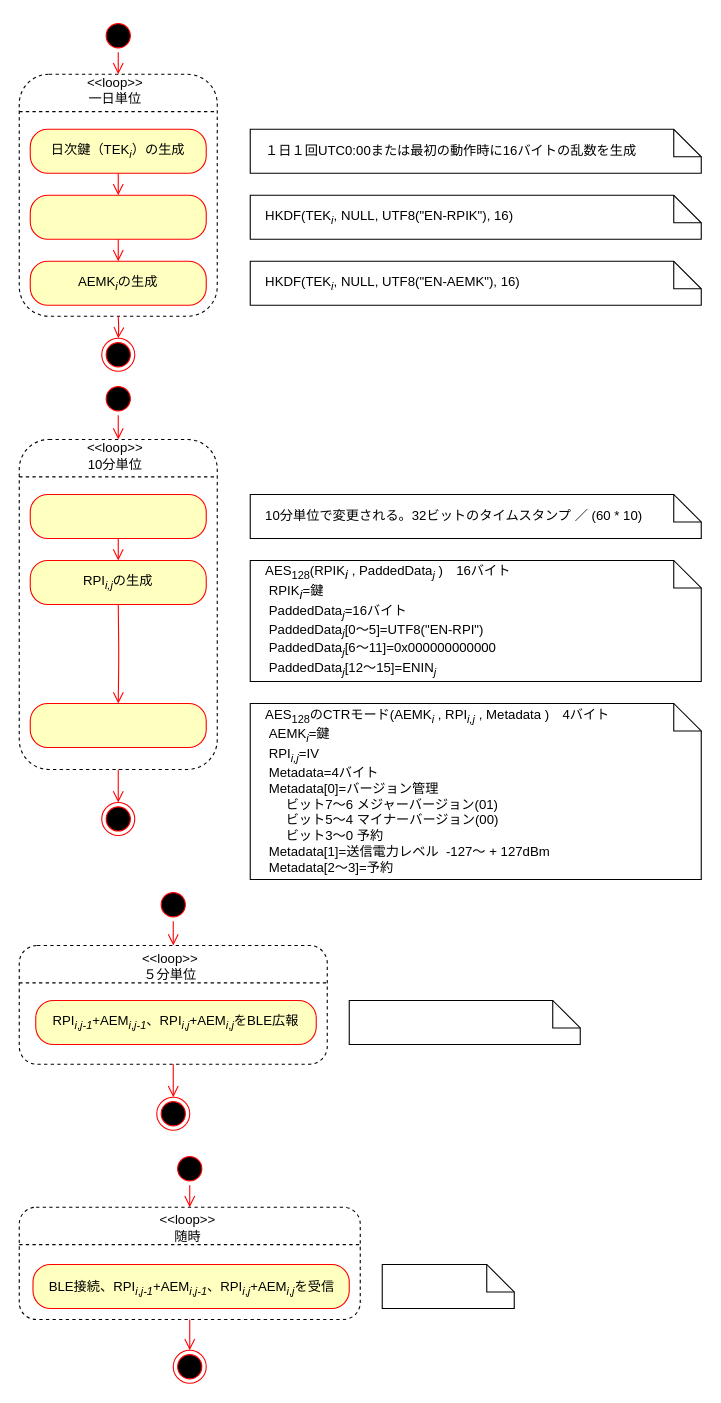
The diagram is 721 pixels wide and 1403 high, and some of its shapes have lost their labels. Here are the shapes that lost their labels. From the top down, the centre of each, then its label:
(x=117, y=216): RPIK i の生成
(x=117, y=515): 時刻（ENIN j ）の生成
(x=117, y=724): AEM i,j の生成
(x=464, y=1021): セントラル RPI+AEMにつき４回広報する。
(x=447, y=1285): ペリフェラル
